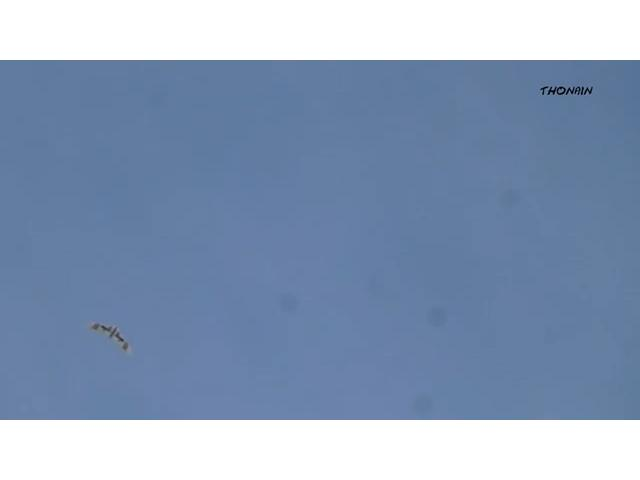Anti-Drone: (90, 322, 132, 353)
